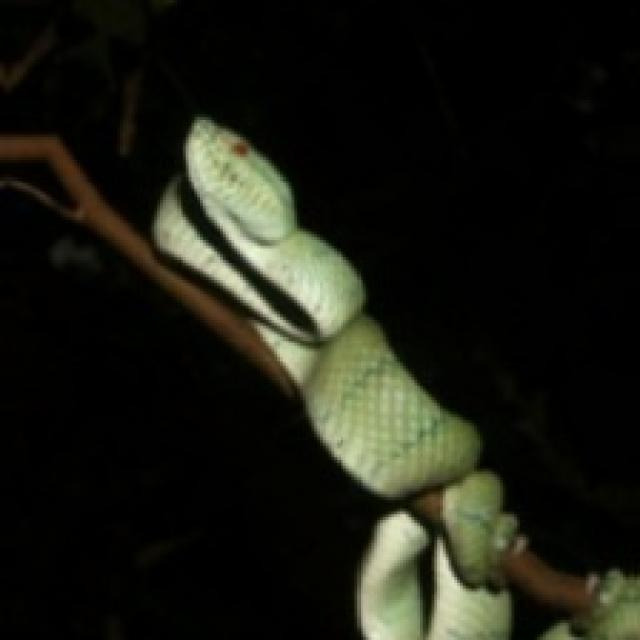north ph temple pitviper: (154, 117, 514, 586)
